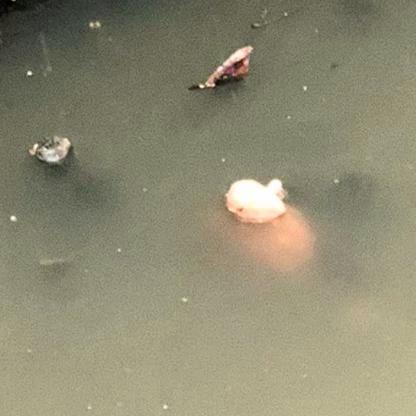Trash: (184, 41, 258, 94), (222, 175, 293, 228)
